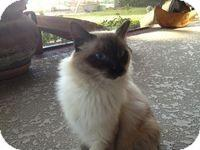siamese: (68, 14, 138, 85)
